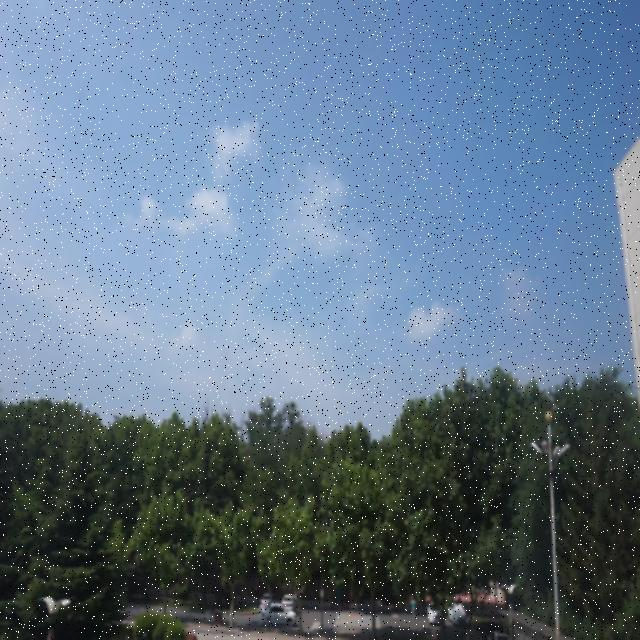UAV: (434, 386, 440, 392)
